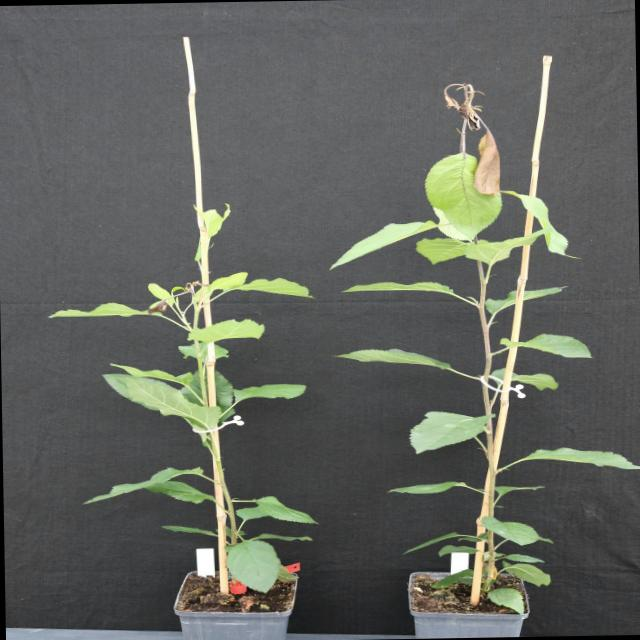-FireBlight-: (448, 82, 503, 192)
